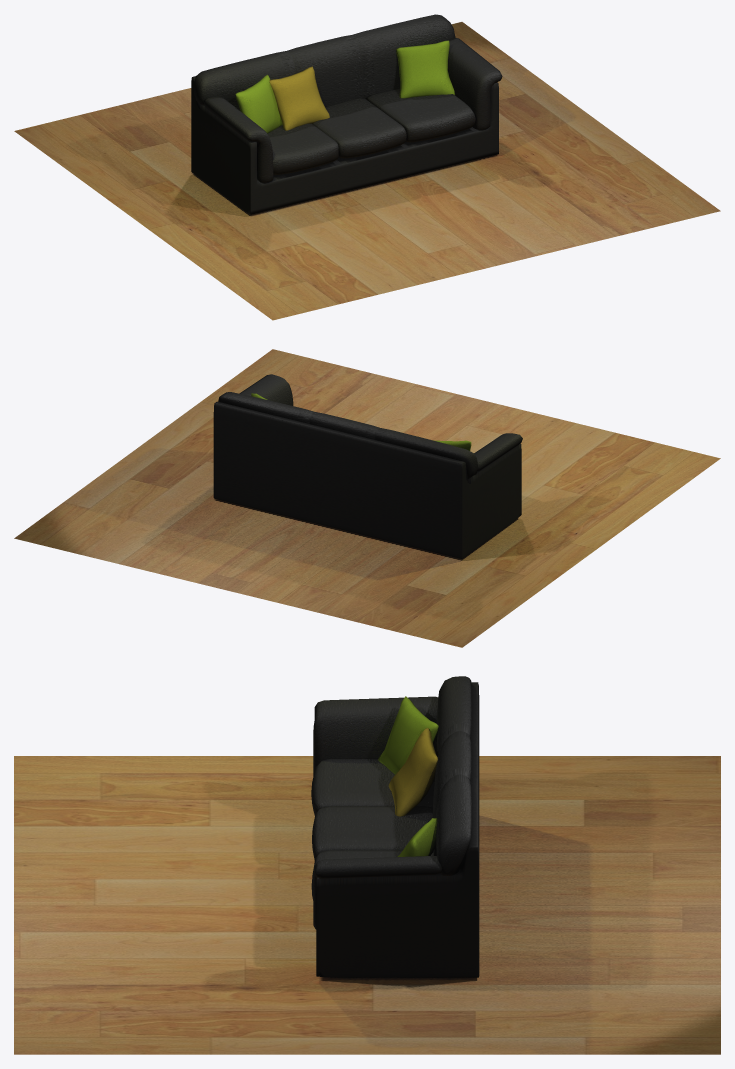
The picture shows the model from 3 angles, top to bottom: view 1: azimuth 30°, elevation 25°; view 2: azimuth 150°, elevation 25°; view 3: azimuth 270°, elevation 25°; orthographic projection. The views are drawn at different scales.
Visible parts, largest first — view 1: floor, cushions, sofa, pillows (×2); view 2: floor, sofa, cushions; view 3: floor, cushions, sofa, pillows (×2).
Boxes of the visible parts, <box> form: floor: <box>14,22,720,320</box>; cushions: <box>194,14,502,182</box>; sofa: <box>191,76,498,214</box>; pillows (×2): <box>235,40,455,133</box>; floor: <box>14,349,720,647</box>; sofa: <box>213,401,521,558</box>; cushions: <box>218,374,522,478</box>; floor: <box>14,756,720,1054</box>; cushions: <box>311,676,471,929</box>; sofa: <box>316,682,479,977</box>; pillows (×2): <box>378,696,438,856</box>.
Bounding box in the file's own units: 6.31 × 1.43 × 6.31.
Materials: 5 (5 with a texture image).
